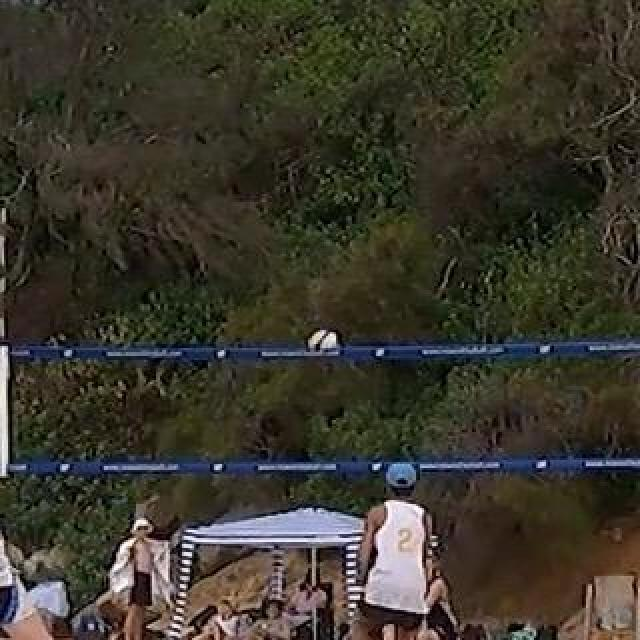volleyball: (307, 327, 341, 359)
